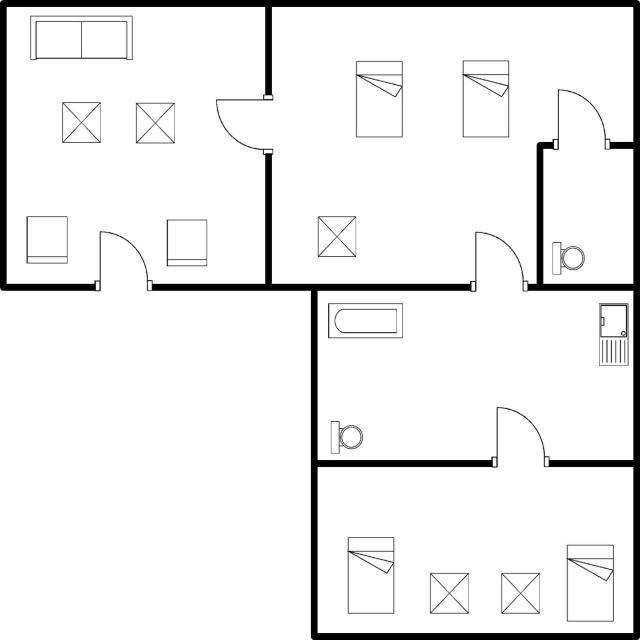bed: (456, 53, 514, 142), (341, 532, 399, 618), (560, 540, 618, 626), (353, 56, 406, 141)
coffee_table: (494, 567, 543, 619), (311, 212, 361, 262), (57, 96, 105, 147), (131, 98, 179, 148), (427, 568, 472, 617)
large_sink: (548, 237, 588, 280), (327, 415, 365, 457)
large_sofa: (25, 12, 136, 65)
sink: (594, 299, 631, 372)
small_sofa: (22, 211, 72, 269), (161, 215, 211, 269)
tub: (324, 299, 413, 344)
